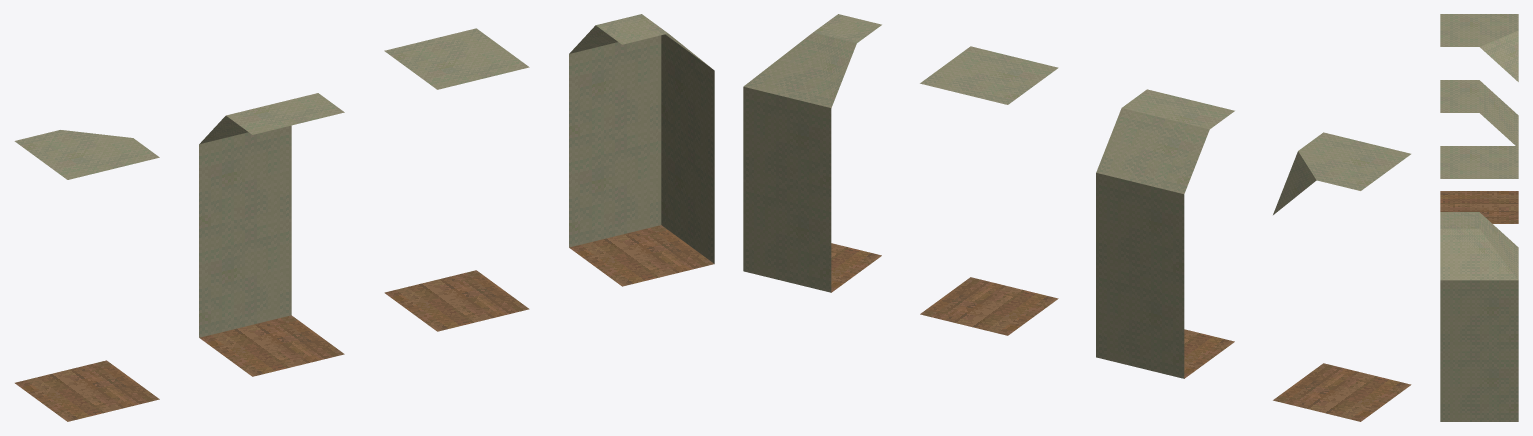
File: dorm_tileset.glb
The picture shows the model from 3 angles, left to right: view 1: azimuth 30°, elevation 25°; view 2: azimuth 150°, elevation 25°; view 3: azimuth 270°, elevation 25°; orthographic projection. The views are drawn at different scales.
Parts seen in each view (by area): view 1: dorm-corner-in, dorm-wall, dorm-floor, dorm-corner-out; view 2: dorm-wall, dorm-corner-in, dorm-corner-out, dorm-floor; view 3: dorm-corner-in, dorm-corner-out, dorm-wall, dorm-floor.
Part boxes in pixels (x1=…): dorm-corner-in: x1=569, y1=14, x2=714, y2=286; dorm-wall: x1=199, y1=93, x2=344, y2=376; dorm-floor: x1=384, y1=28, x2=529, y2=331; dorm-corner-out: x1=14, y1=130, x2=159, y2=421; dorm-wall: x1=1096, y1=89, x2=1234, y2=378; dorm-corner-in: x1=743, y1=14, x2=881, y2=292; dorm-corner-out: x1=1273, y1=132, x2=1411, y2=421; dorm-floor: x1=920, y1=46, x2=1058, y2=335; dorm-corner-in: x1=1440, y1=212, x2=1518, y2=421; dorm-corner-out: x1=1440, y1=14, x2=1518, y2=223; dorm-wall: x1=1440, y1=80, x2=1518, y2=145; dorm-floor: x1=1440, y1=146, x2=1518, y2=178.
Bounding box in the file's own units: 7 × 2.5 × 1.
1 material, 1 textured.
